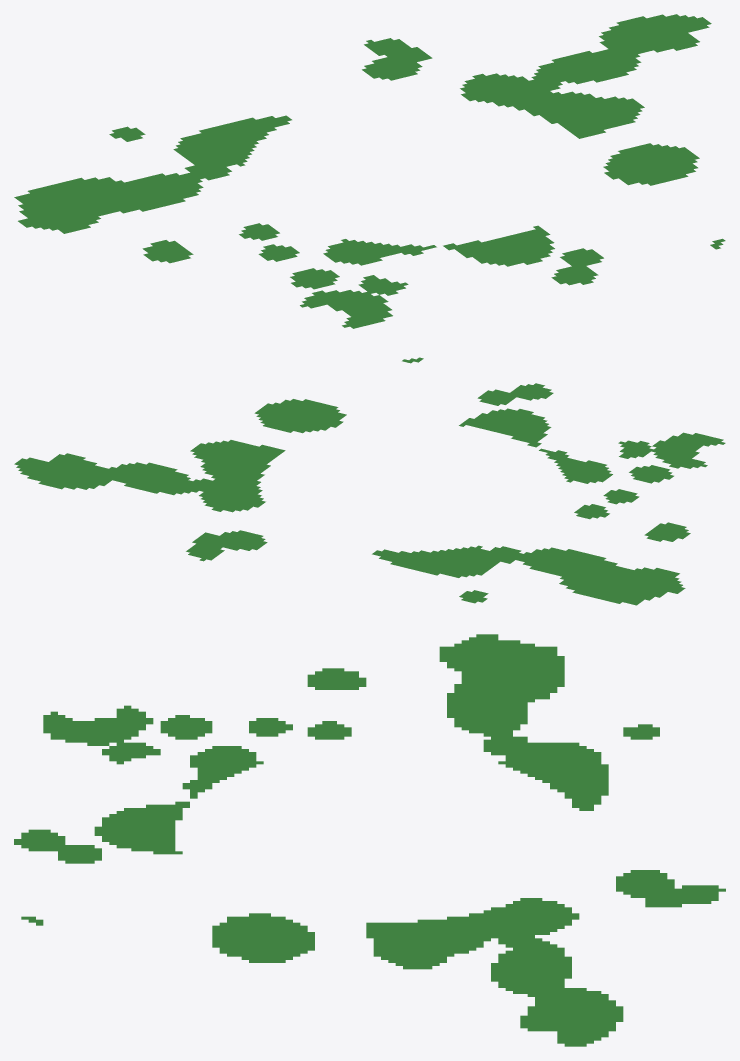
File: Isl-start1-TreesArea.fbx
3 views of the same model, one above another, from view 1: azimuth 30°, elevation 25°; view 2: azimuth 150°, elevation 25°; view 3: azimuth 270°, elevation 25° (orthographic). The views are drawn at different scales.
Visible parts, largest first — view 1: Isl-start1-TreesArea; view 2: Isl-start1-TreesArea; view 3: Isl-start1-TreesArea.
Part boxes in pixels (x1=…): Isl-start1-TreesArea: x1=14, y1=14, x2=725, y2=328; Isl-start1-TreesArea: x1=14, y1=357, x2=725, y2=605; Isl-start1-TreesArea: x1=14, y1=634, x2=725, y2=1046.
Size of the model in its own units: 133 by 0 by 97.
